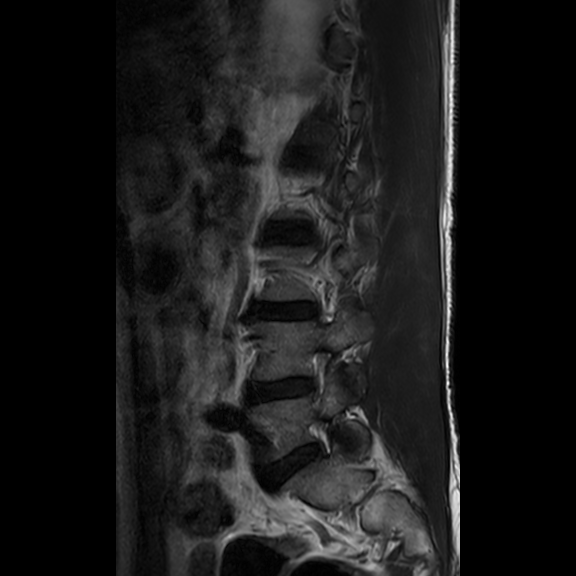LFS0: (295, 341, 345, 407), (295, 409, 347, 467)
